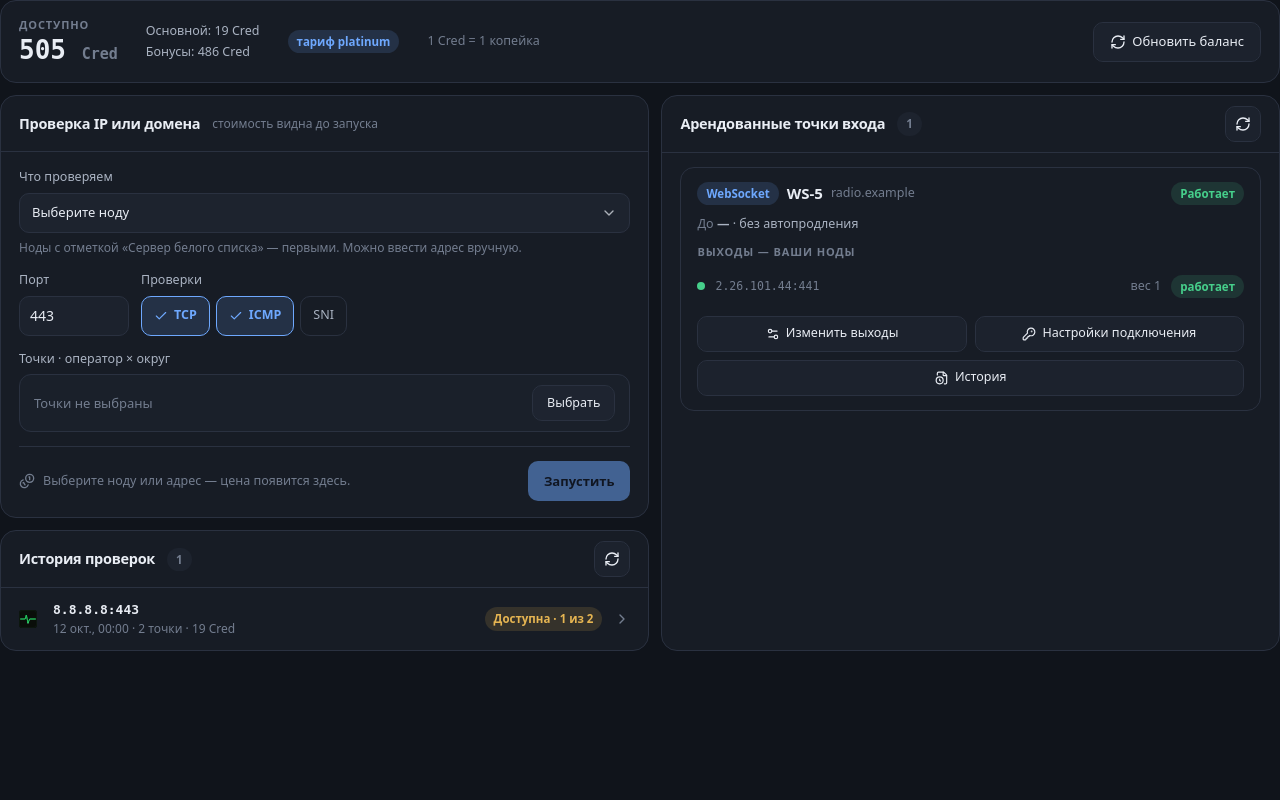
Test case: История точки › пока ничего нет — объясняет, с какой версии ведётся история
Click the button "История" at (971, 378), box [698,360,1244,396]
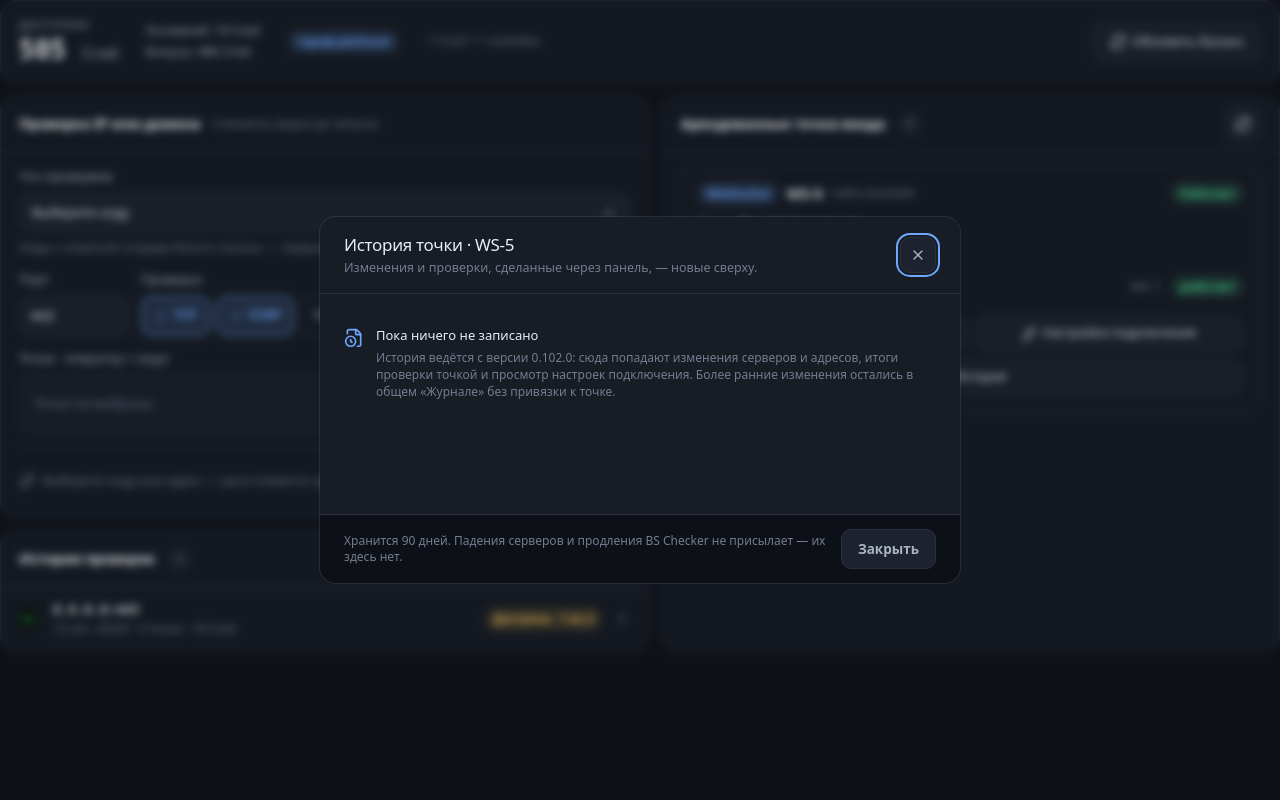
Expected: the text "Пока ничего не записано" is shown, [376,326,538,344]
Expected: the dialog "История точки · WS-5" shows "История ведётся с версии 0.102.0", [376,349,913,400]
